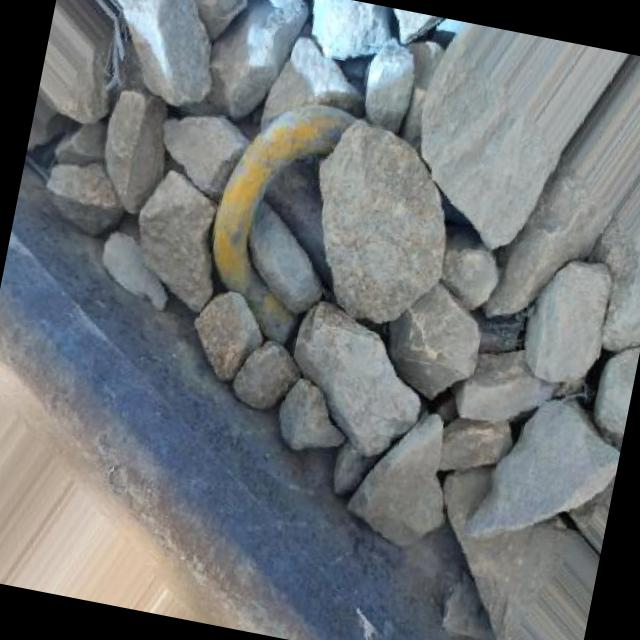non-defective: (0, 200, 463, 640)
